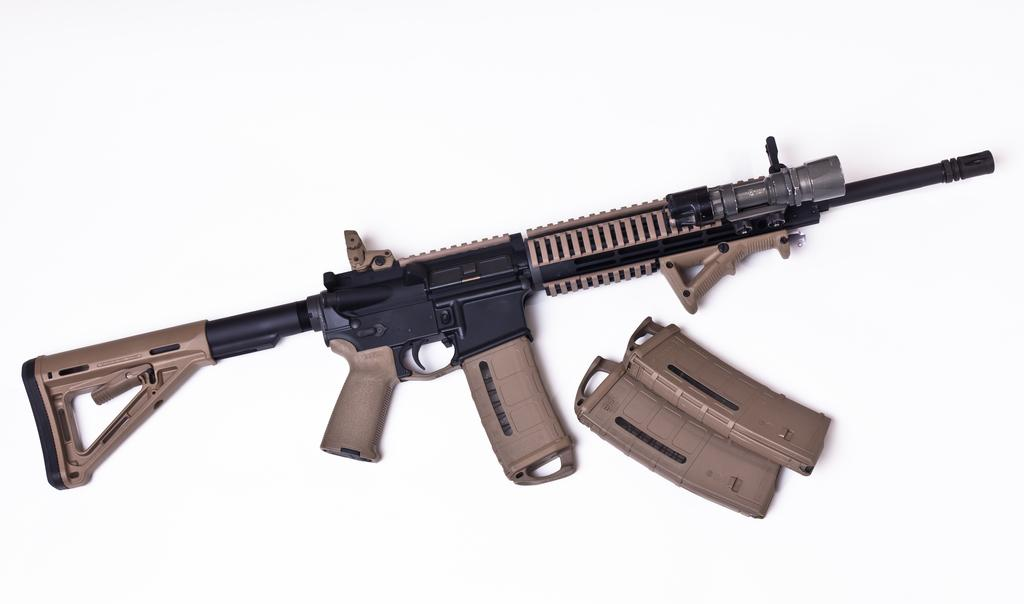Rifle: (23, 137, 994, 487)
